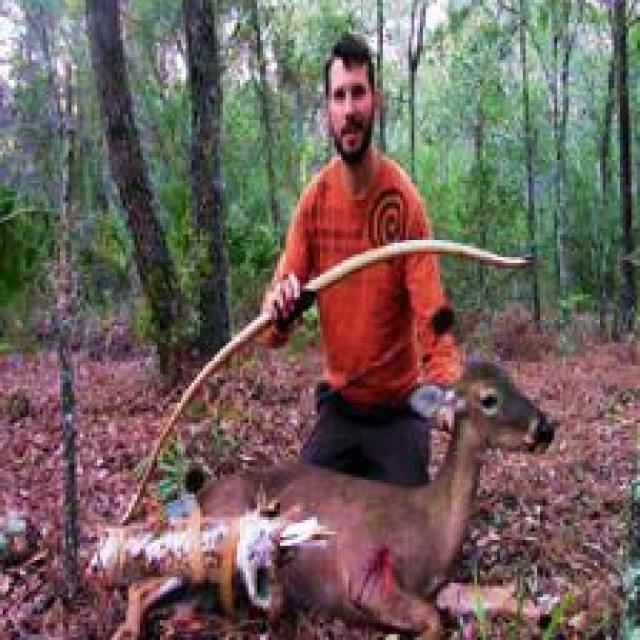Deer: (191, 346, 566, 628)
X-Bow: (56, 218, 573, 393)
